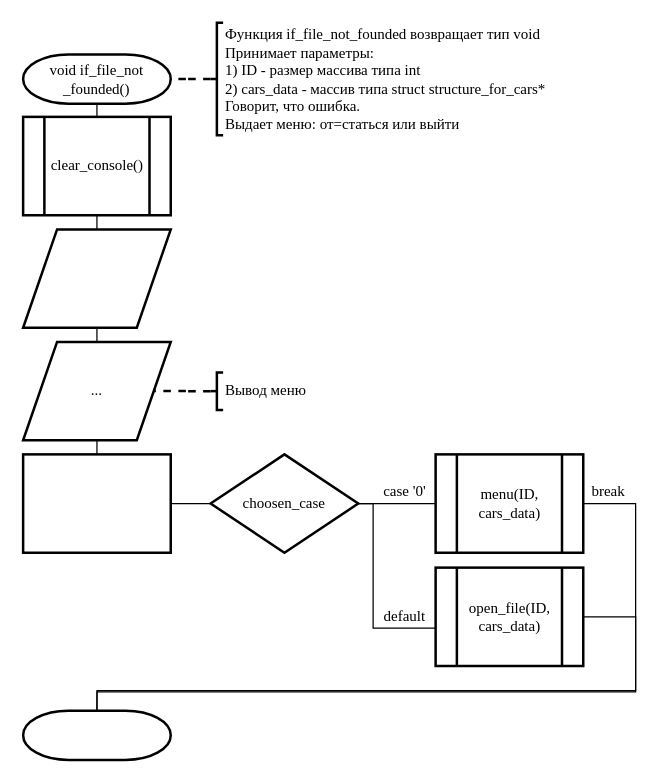
The diagram is 659 pixels wide and 783 high, and some of its shapes have lost their labels. The shapes that lost their labels are listed below. From the top down, each one's centre as x and y in pixels, then its label:
(96,278): Файл не найден!
(96,502): сhoosen_case := getch()
(96,734): Конец
